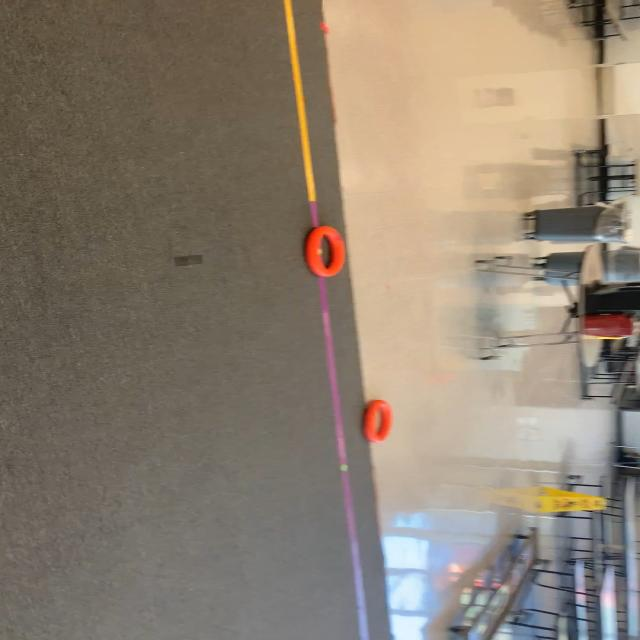notes: (308, 224, 343, 280), (361, 398, 393, 443)
